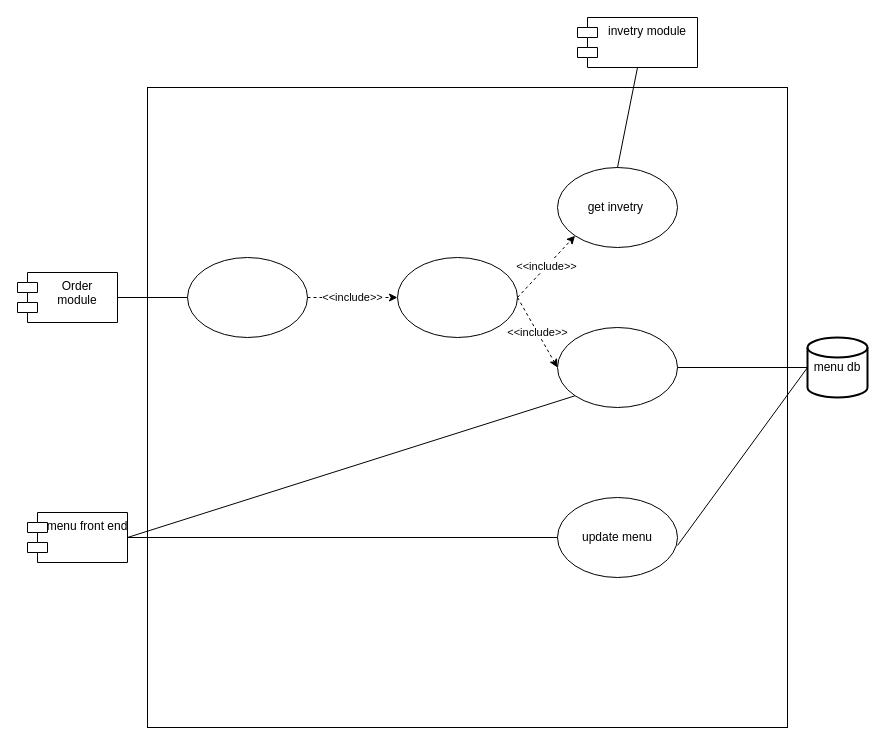
Some shapes in this 886 by 745 pixel diagram are drawn without their labels. The centre of each missing label's shape, as x and y in pixels:
"compare inverty and menu" goes at [457,297].
"get menu" goes at [617,367].
"return active menu" goes at [247,297].
